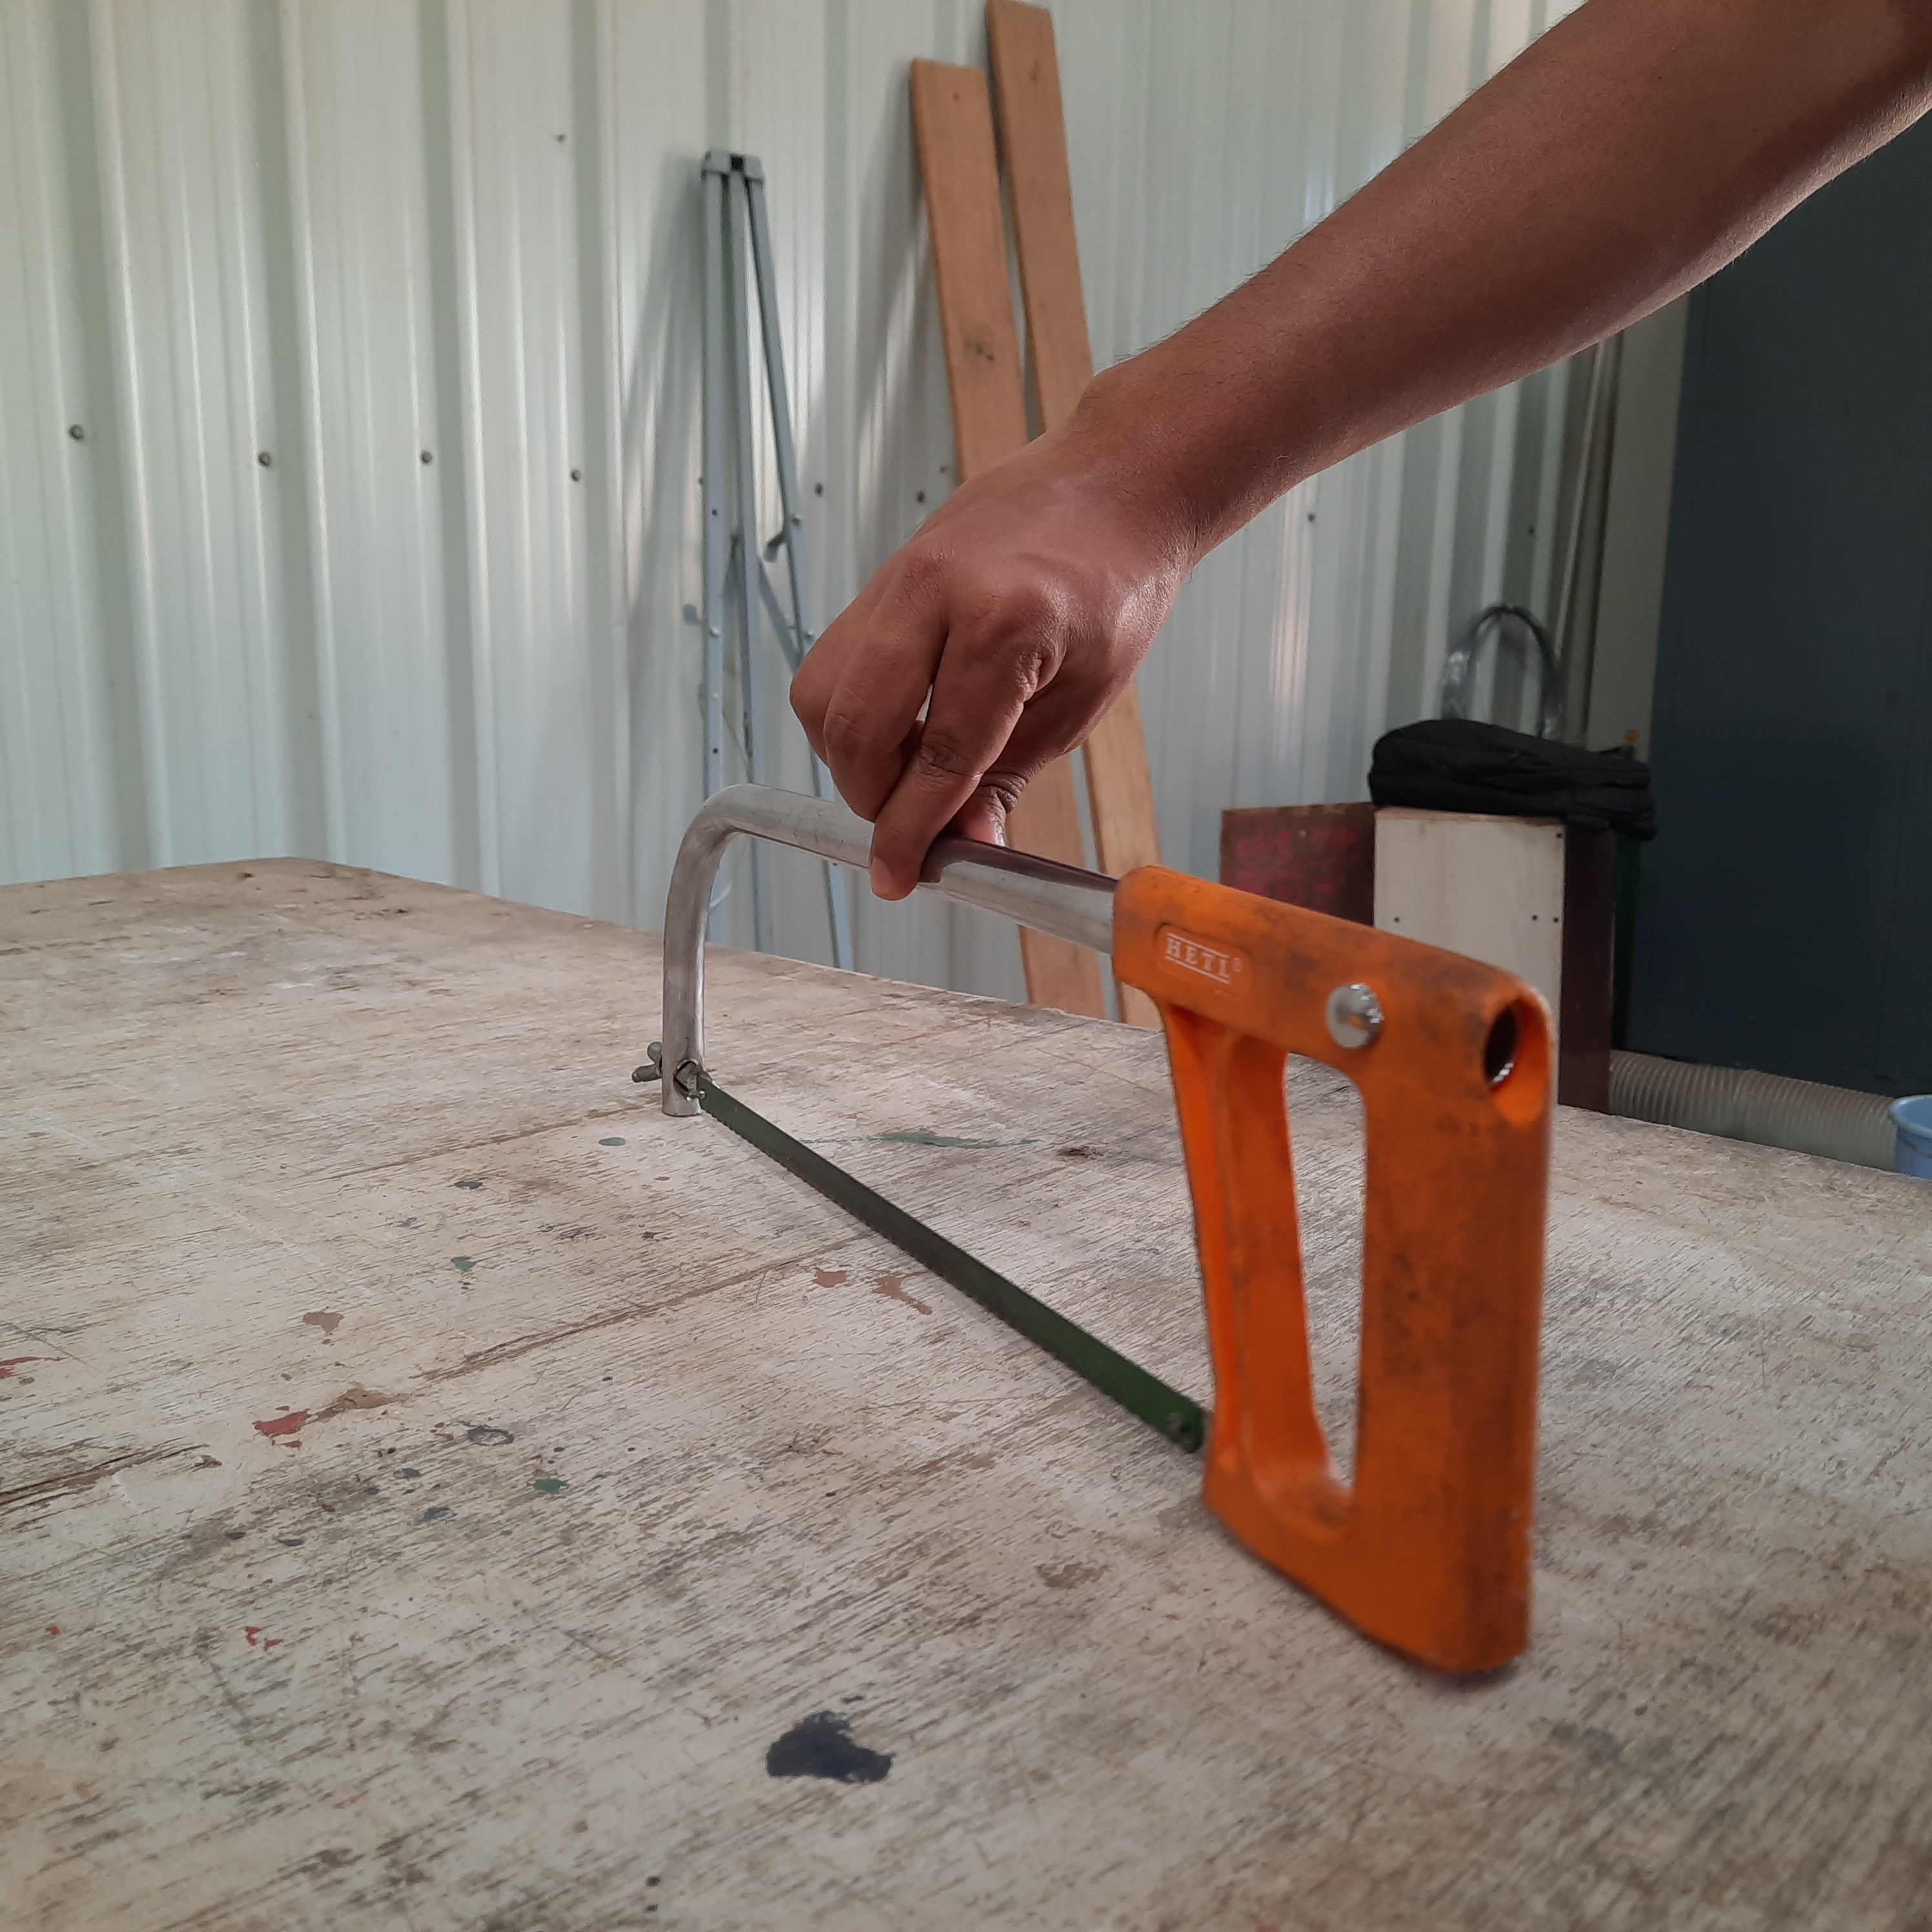Hexaframe: (607, 727, 1656, 1787)
